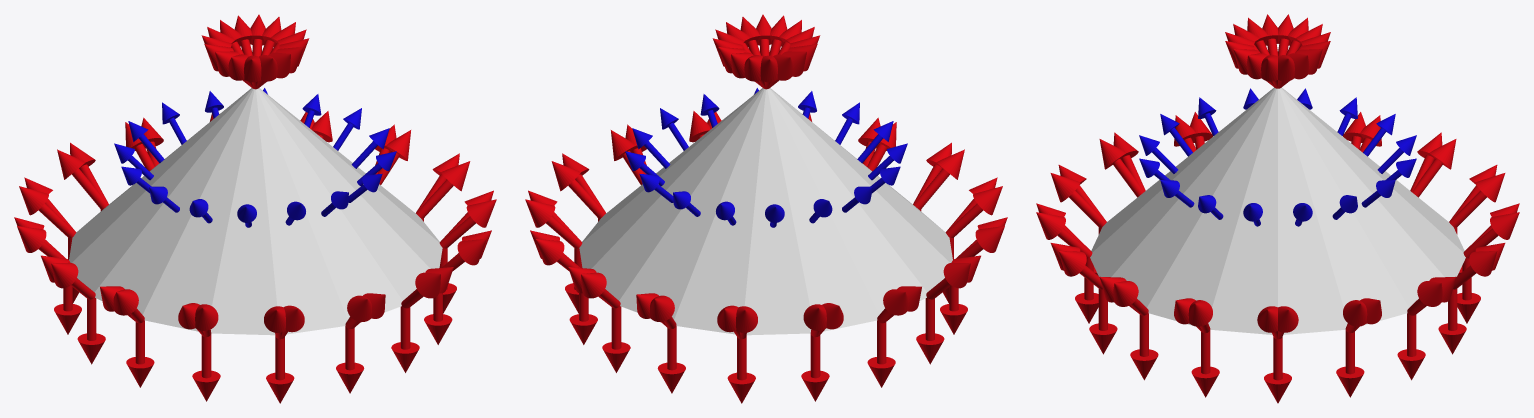
The model's file is cone-split.glb.
3 views of the same model, side by side, from view 1: azimuth 30°, elevation 25°; view 2: azimuth 150°, elevation 25°; view 3: azimuth 270°, elevation 25° (orthographic).
Visible parts, largest first — view 1: cone-split; view 2: cone-split; view 3: cone-split.
Boxes of the visible parts, x1=… form: cone-split: x1=14, y1=14, x2=496, y2=403; cone-split: x1=525, y1=14, x2=1007, y2=403; cone-split: x1=1036, y1=14, x2=1519, y2=403.
Bounding box in the file's own units: 2.56 × 1.68 × 2.56.
